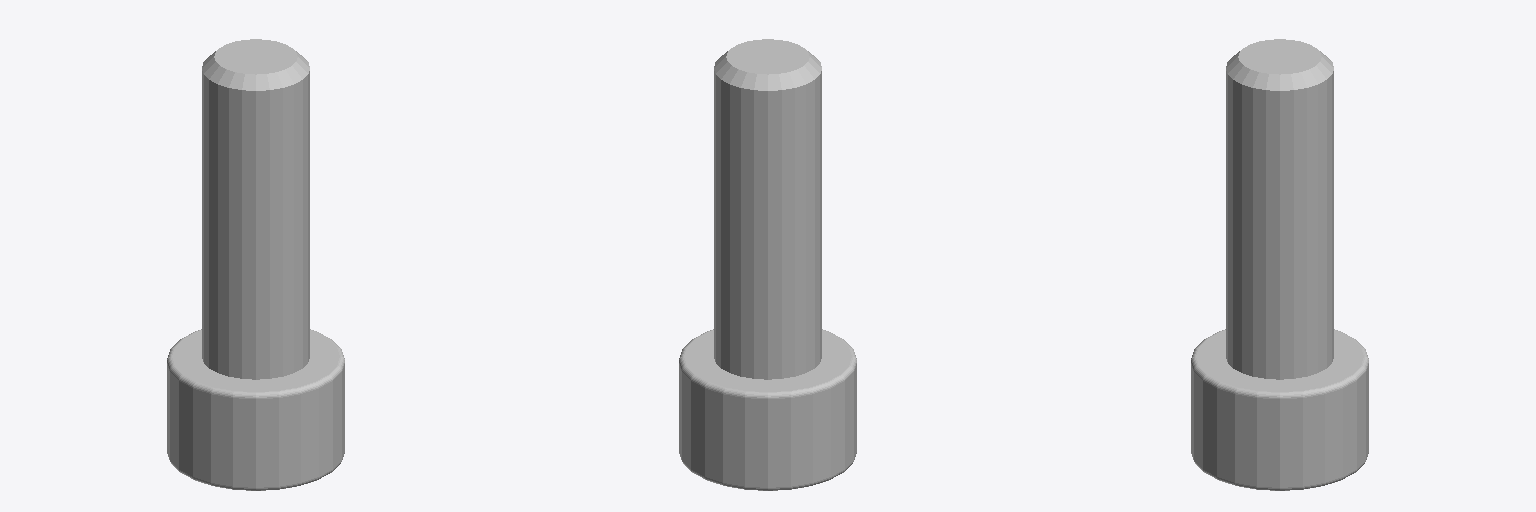
The model's file is _1251A194_Black_Oxide_Alloy_Steel_Socket_Head_Screw_17__1251A194_Black_Oxide_Alloy_Steel_Socket_Head_Screw.obj.
3 views of the same model, side by side, from view 1: azimuth 30°, elevation 25°; view 2: azimuth 150°, elevation 25°; view 3: azimuth 270°, elevation 25° (orthographic).
Bounding box in the file's own units: 0.0069 × 0.0169 × 0.0069.